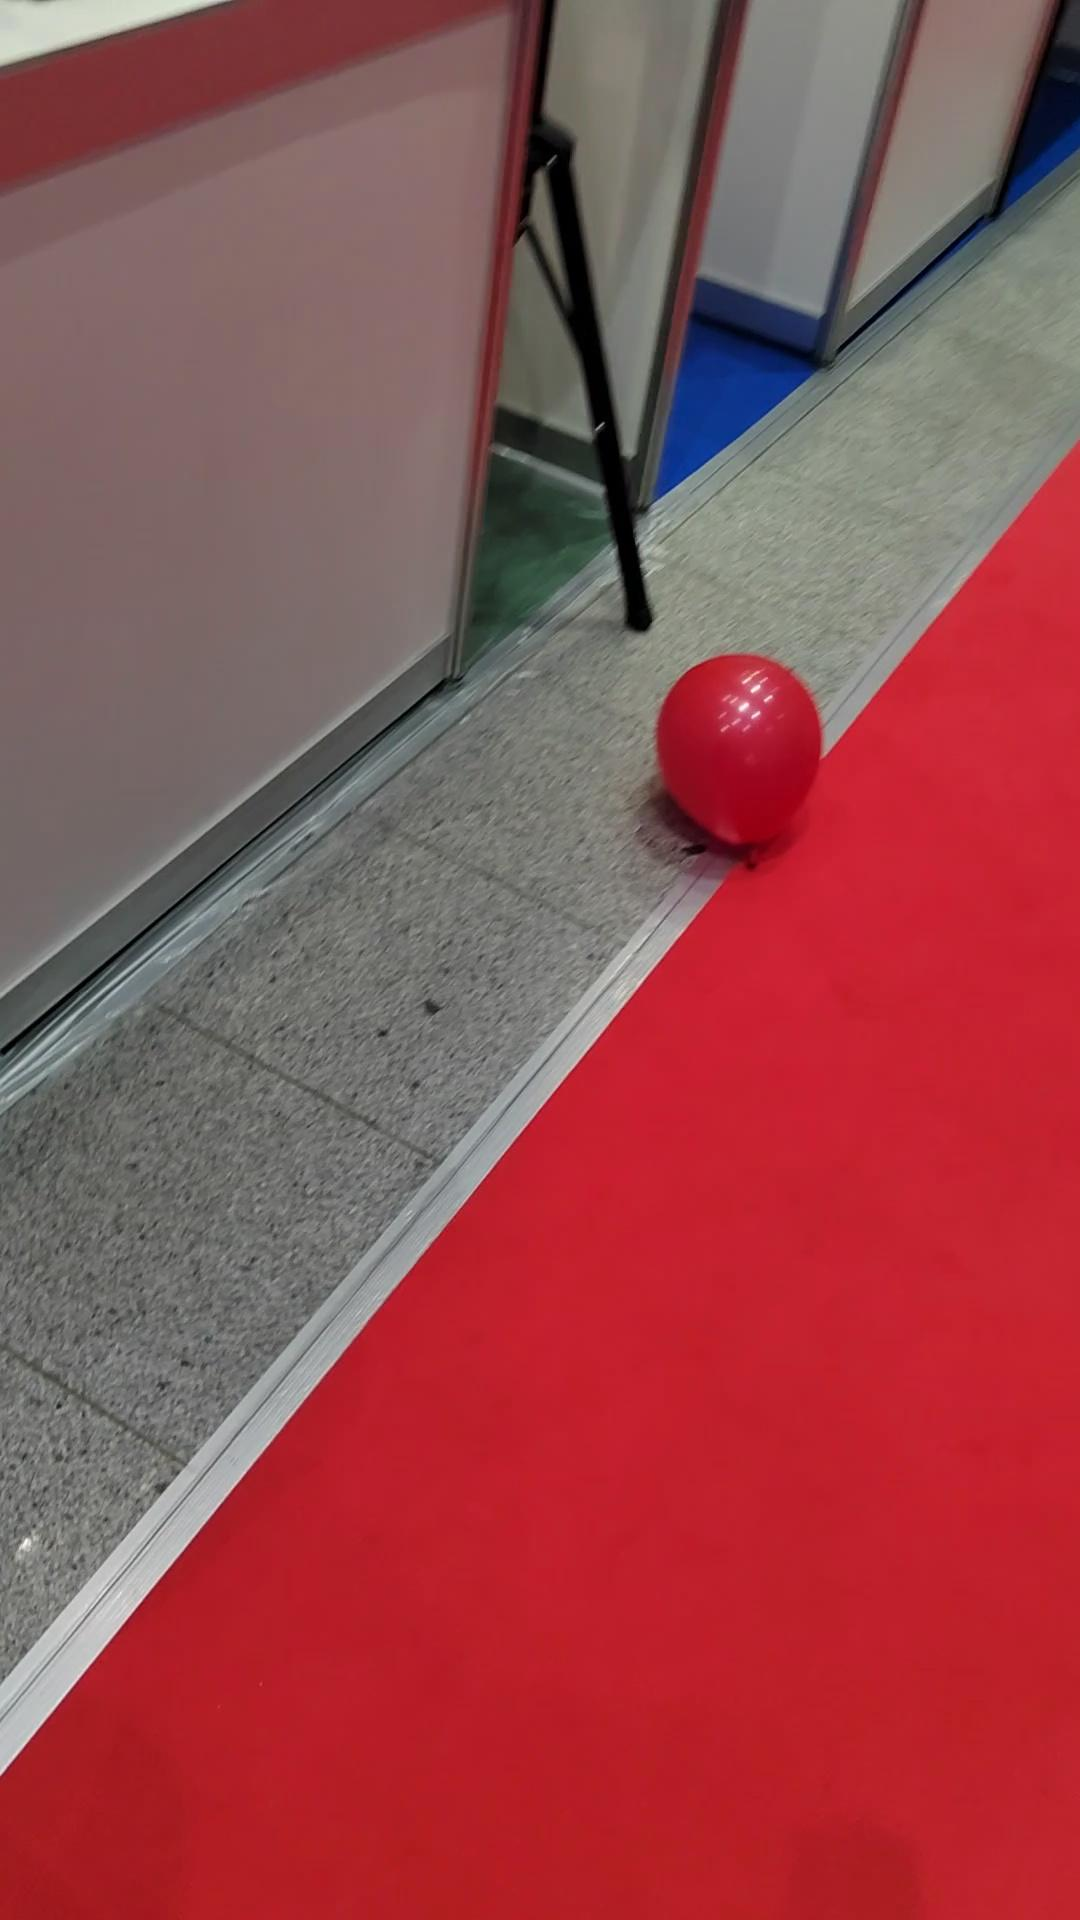red: (646, 647, 827, 857)
